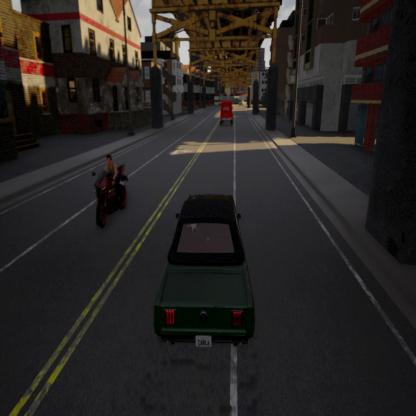Cars: (153, 194, 255, 356), (92, 151, 129, 229), (218, 98, 235, 126)
